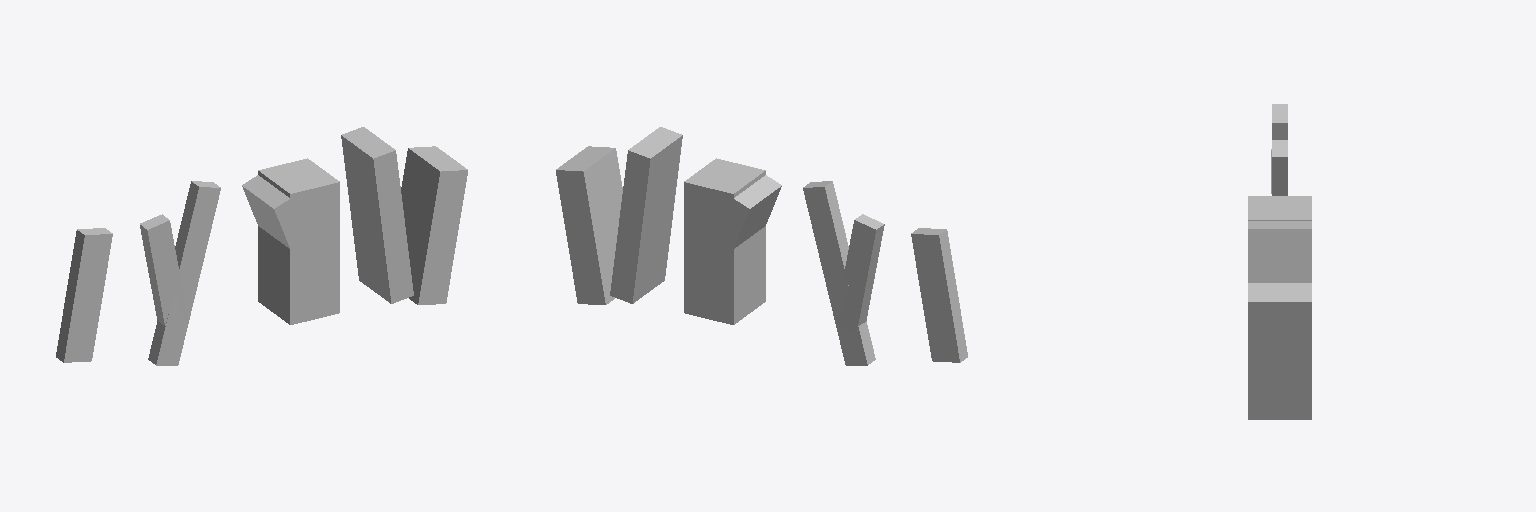
Rendered from Unity Export stumps.obj.
3 renders of one model, left to right at view 1: azimuth 30°, elevation 25°; view 2: azimuth 150°, elevation 25°; view 3: azimuth 270°, elevation 25°, orthographic.
Parts seen in each view (by area): view 1: Cube (4), Cube (3), Cube (50), Cube (47), Cube (6), Cube (5), Cube (46); view 2: Cube (4), Cube (3), Cube (50), Cube (47), Cube (6), Cube (46), Cube (5); view 3: Cube (50), Cube (3), Cube (4), Cube (6), Cube (47).
Boxes of the visible parts, <box> form: Cube (4): <box>258,158,339,324</box>; Cube (3): <box>341,127,413,303</box>; Cube (50): <box>401,146,467,304</box>; Cube (47): <box>56,228,112,362</box>; Cube (6): <box>148,181,220,365</box>; Cube (5): <box>242,175,338,316</box>; Cube (46): <box>140,214,188,325</box>; Cube (4): <box>684,158,765,324</box>; Cube (3): <box>610,127,682,303</box>; Cube (50): <box>556,146,622,304</box>; Cube (47): <box>911,228,967,362</box>; Cube (6): <box>803,181,875,365</box>; Cube (46): <box>837,214,884,332</box>; Cube (5): <box>689,175,781,316</box>; Cube (50): <box>1248,283,1311,419</box>; Cube (3): <box>1248,221,1311,282</box>; Cube (4): <box>1248,196,1311,220</box>; Cube (6): <box>1272,140,1287,195</box>; Cube (47): <box>1272,104,1287,139</box>.
Size of the model in its own units: 72.71 by 30.95 by 10.39.